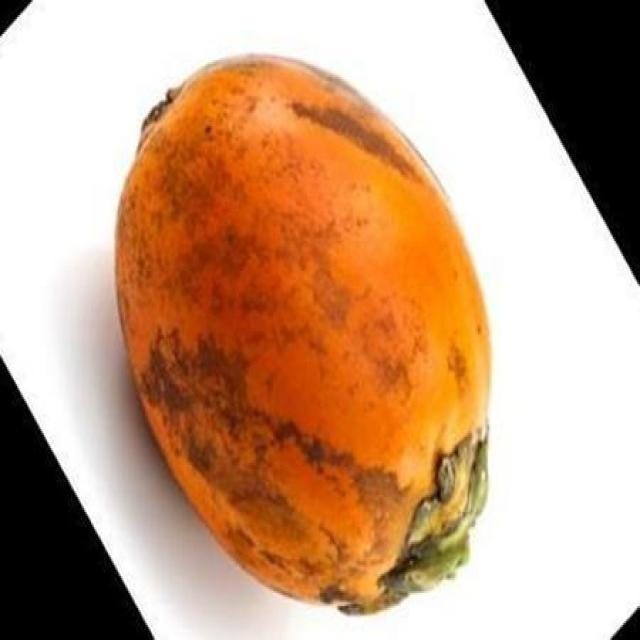good: (114, 55, 489, 617)
